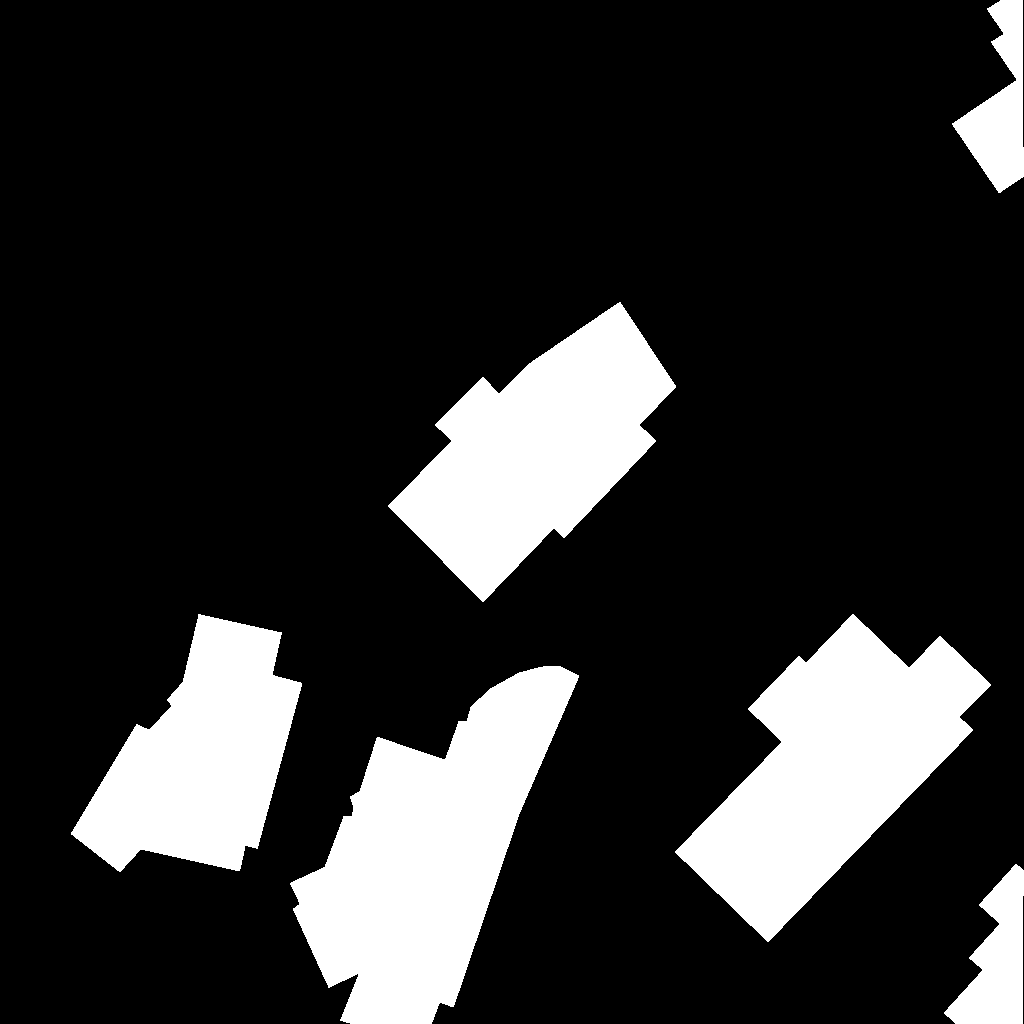building: (675, 614, 992, 943), (290, 666, 580, 1024), (388, 302, 677, 603), (71, 614, 303, 873), (952, 0, 1024, 194), (944, 864, 1024, 1024)
